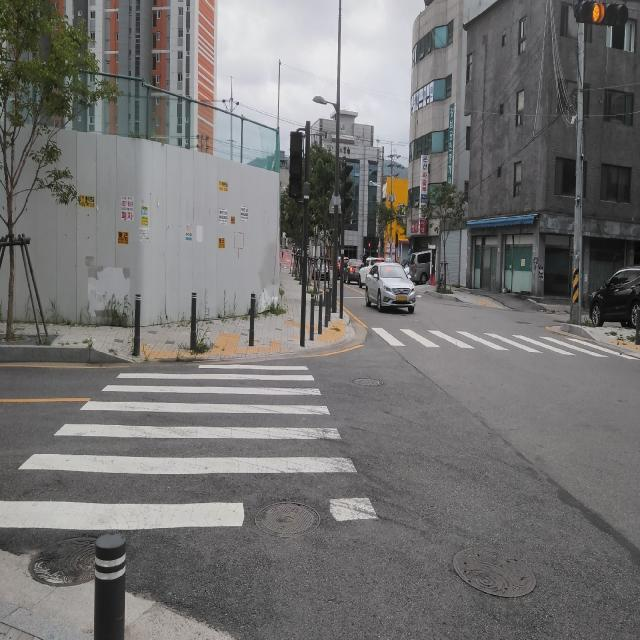횡단보도: (1, 362, 378, 530), (378, 319, 630, 362)
